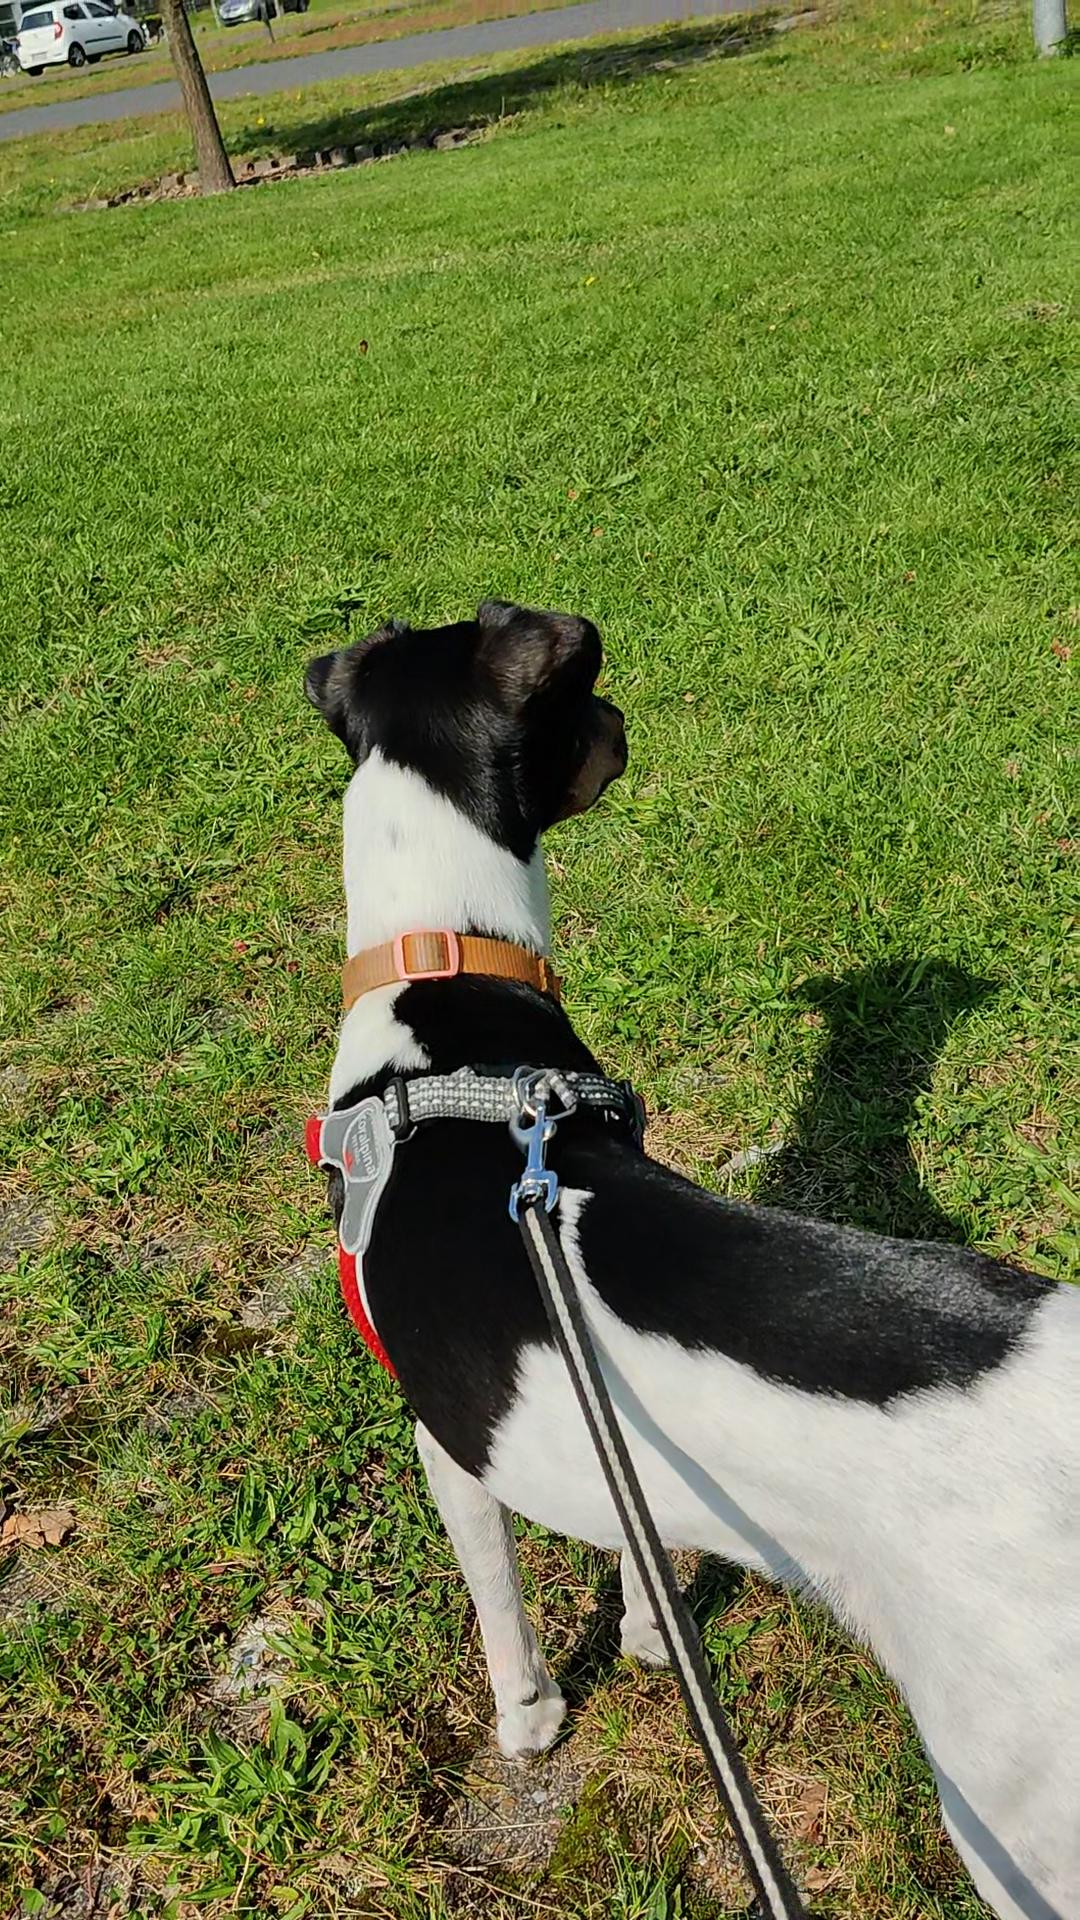Dog: (276, 562, 1079, 1919)
